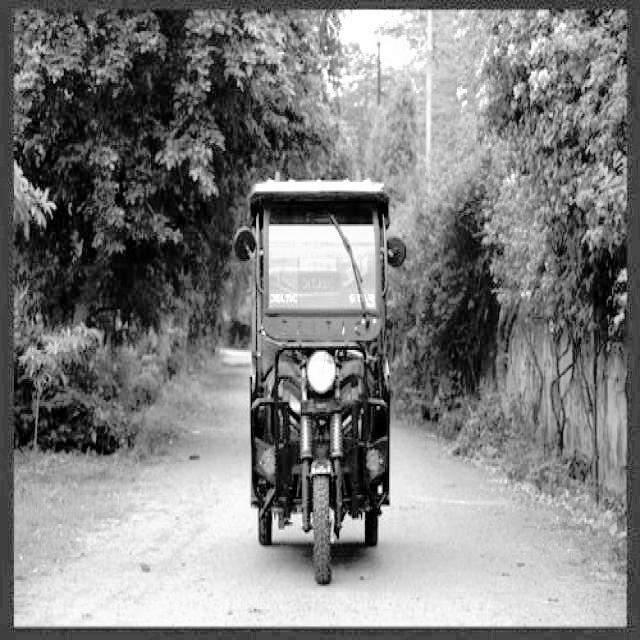Toto: (242, 169, 392, 592)
